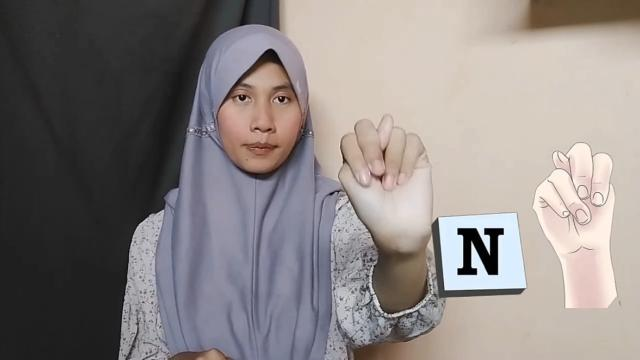N: (334, 112, 436, 250)
